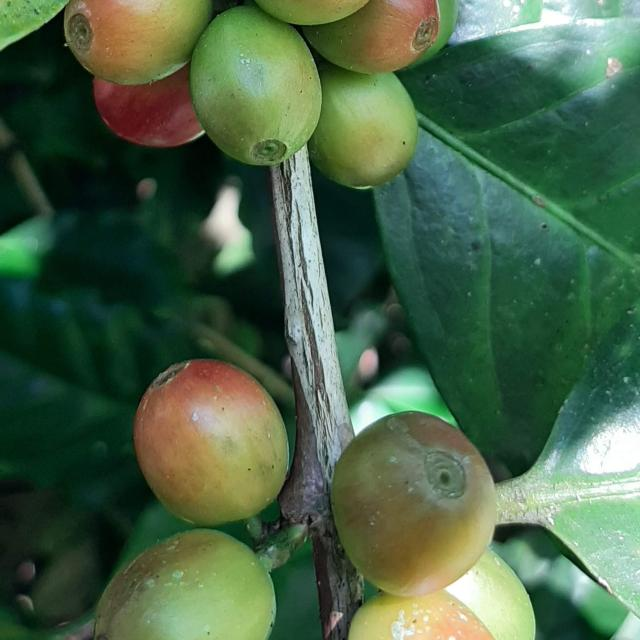green: (190, 5, 322, 165), (308, 62, 418, 189), (446, 550, 536, 640)
red: (93, 63, 204, 147)
yellow: (332, 412, 497, 598), (132, 360, 288, 527), (94, 530, 276, 640), (64, 0, 212, 84), (302, 0, 458, 73), (349, 591, 495, 640), (255, 0, 369, 24)
